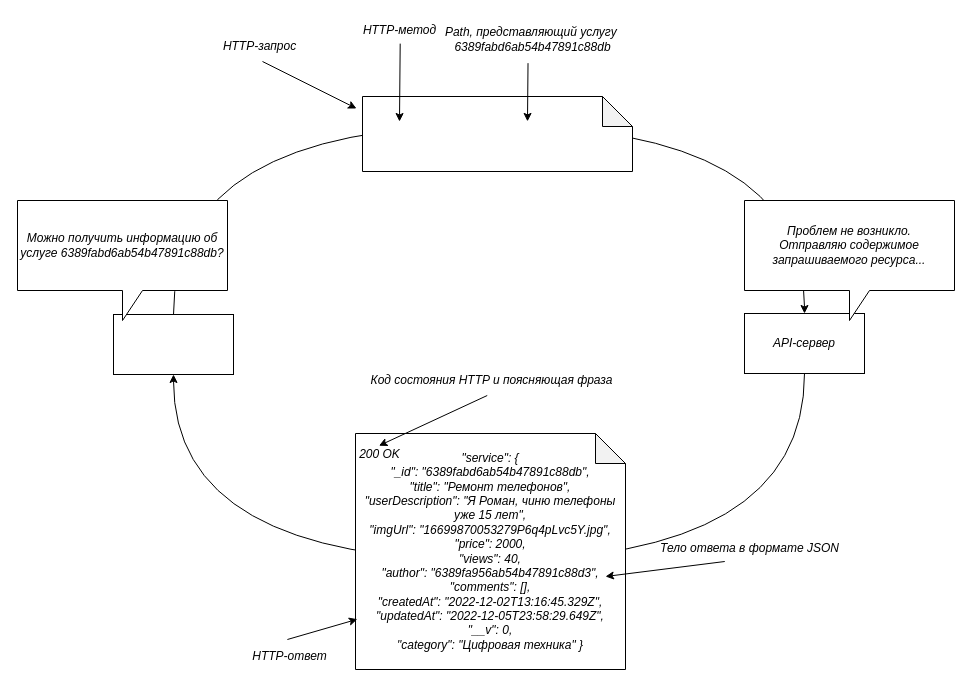
Image size: 972x687. Some labels were removed from this diagram. The shapes that lost their labels are listed below. From the top down, each one's centre as x and y in pixels, then its label:
point 497,134: GET /services/6389fabd6ab54b47891c88db
point 173,344: Клиент
